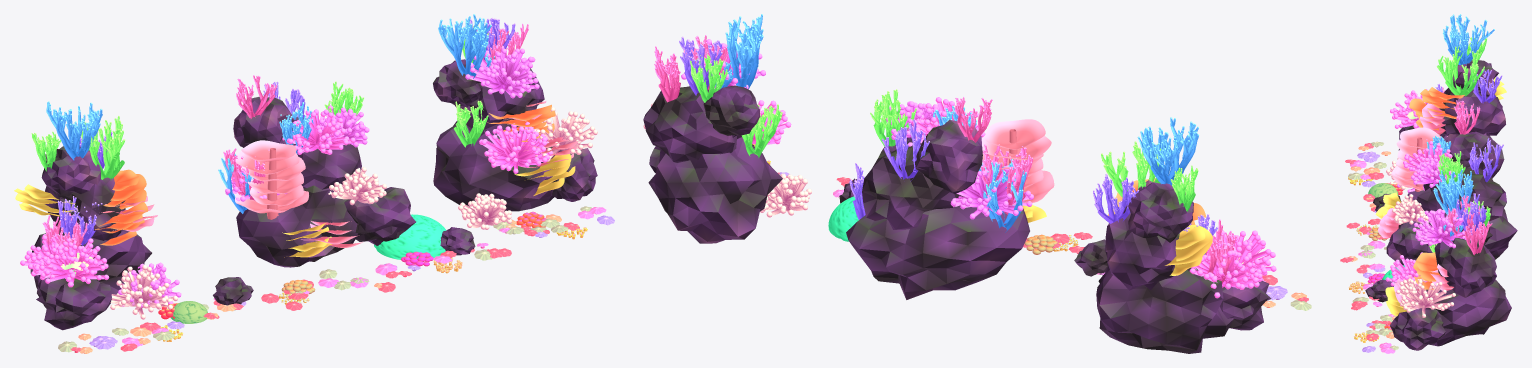
The model's file is reef-layout.glb.
The picture shows the model from 3 angles, left to right: view 1: azimuth 30°, elevation 25°; view 2: azimuth 150°, elevation 25°; view 3: azimuth 270°, elevation 25°; orthographic projection. The views are drawn at different scales.
Visible parts, largest first — view 1: live_rock, coral_pocillopora, coral_montipora_plates, coral_mushrooms, coral_acropora_blue, coral_turbinaria, coral_acropora_green, coral_acropora_pink, coral_brain_dome, coral_acropora_purple, coral_acans, coral_zoanthids; view 2: live_rock, coral_pocillopora, coral_acropora_blue, coral_acropora_green, coral_acropora_pink, coral_acropora_purple, coral_turbinaria, coral_montipora_plates, coral_mushrooms, coral_brain_dome; view 3: live_rock, coral_pocillopora, coral_montipora_plates, coral_mushrooms, coral_acropora_blue, coral_acropora_green, coral_acropora_purple, coral_acropora_pink, coral_turbinaria, coral_zoanthids, coral_brain_dome, coral_acans.
Boxes of the visible parts, <box> form: live_rock: <box>30,59,597,330</box>; coral_pocillopora: <box>20,45,597,319</box>; coral_montipora_plates: <box>14,101,578,257</box>; coral_mushrooms: <box>58,206,614,353</box>; coral_acropora_blue: <box>46,14,494,213</box>; coral_turbinaria: <box>235,140,308,219</box>; coral_acropora_green: <box>31,25,488,180</box>; coral_acropora_pink: <box>42,23,528,250</box>; coral_brain_dome: <box>171,214,446,323</box>; coral_acropora_purple: <box>57,18,515,245</box>; coral_acans: <box>158,211,546,319</box>; coral_zoanthids: <box>158,225,587,341</box>; live_rock: <box>643,85,1271,353</box>; coral_pocillopora: <box>643,39,1276,298</box>; coral_acropora_blue: <box>715,14,1198,232</box>; coral_acropora_green: <box>690,54,1198,211</box>; coral_acropora_pink: <box>654,35,1237,283</box>; coral_acropora_purple: <box>679,36,1218,254</box>; coral_turbinaria: <box>978,119,1054,205</box>; coral_montipora_plates: <box>752,144,1212,275</box>; coral_mushrooms: <box>778,172,1311,310</box>; coral_brain_dome: <box>828,196,861,241</box>; live_rock: <box>1365,60,1517,350</box>; coral_pocillopora: <box>1385,90,1465,317</box>; coral_montipora_plates: <box>1375,77,1506,315</box>; coral_mushrooms: <box>1340,141,1398,353</box>; coral_acropora_blue: <box>1426,14,1494,240</box>; coral_acropora_green: <box>1429,35,1490,252</box>; coral_acropora_purple: <box>1427,69,1503,234</box>; coral_acropora_pink: <box>1422,87,1492,255</box>; coral_turbinaria: <box>1391,127,1440,191</box>; coral_zoanthids: <box>1348,177,1379,342</box>; coral_brain_dome: <box>1368,183,1404,282</box>; coral_acans: <box>1367,183,1403,330</box>.
Bounding box in the file's own units: 16.9 × 5.9 × 5.85.
